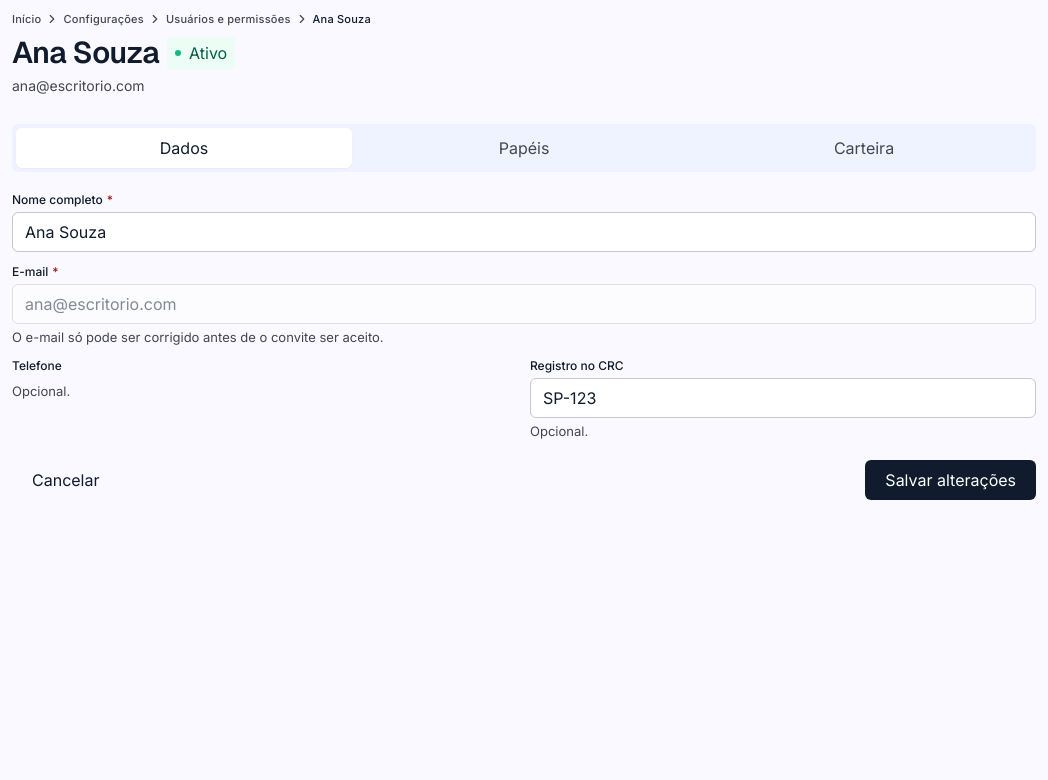
Test: papéis personalizados do usuário (SPEC-008 §3.4) › a aba Papéis mostra os personalizados ativos, com os atuais marcados
Step 1. Click the tab "Papéis" → {"x": 524, "y": 148}, box 356,128 -> 692,168
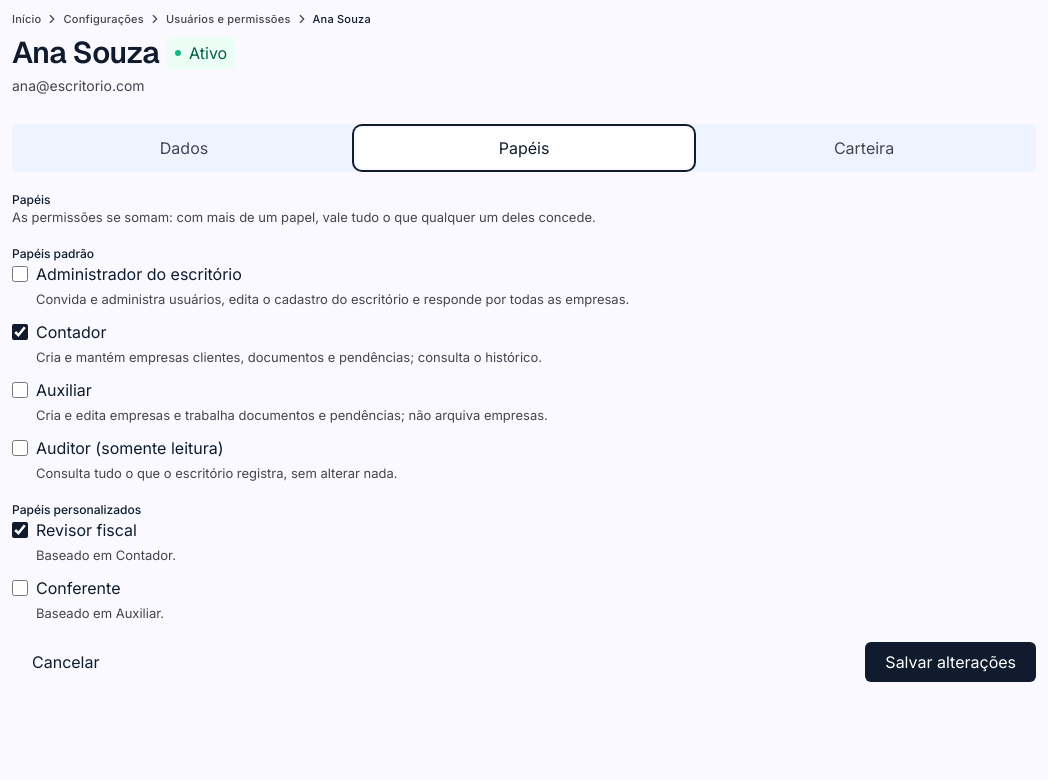
Check: the checkbox labelled "Revisor fiscal" is checked, box 12,522 -> 28,538
Check: the checkbox labelled "Conferente" is not checked, box 12,580 -> 28,596
Check: the checkbox labelled "Contador" is checked, box 12,324 -> 28,340
